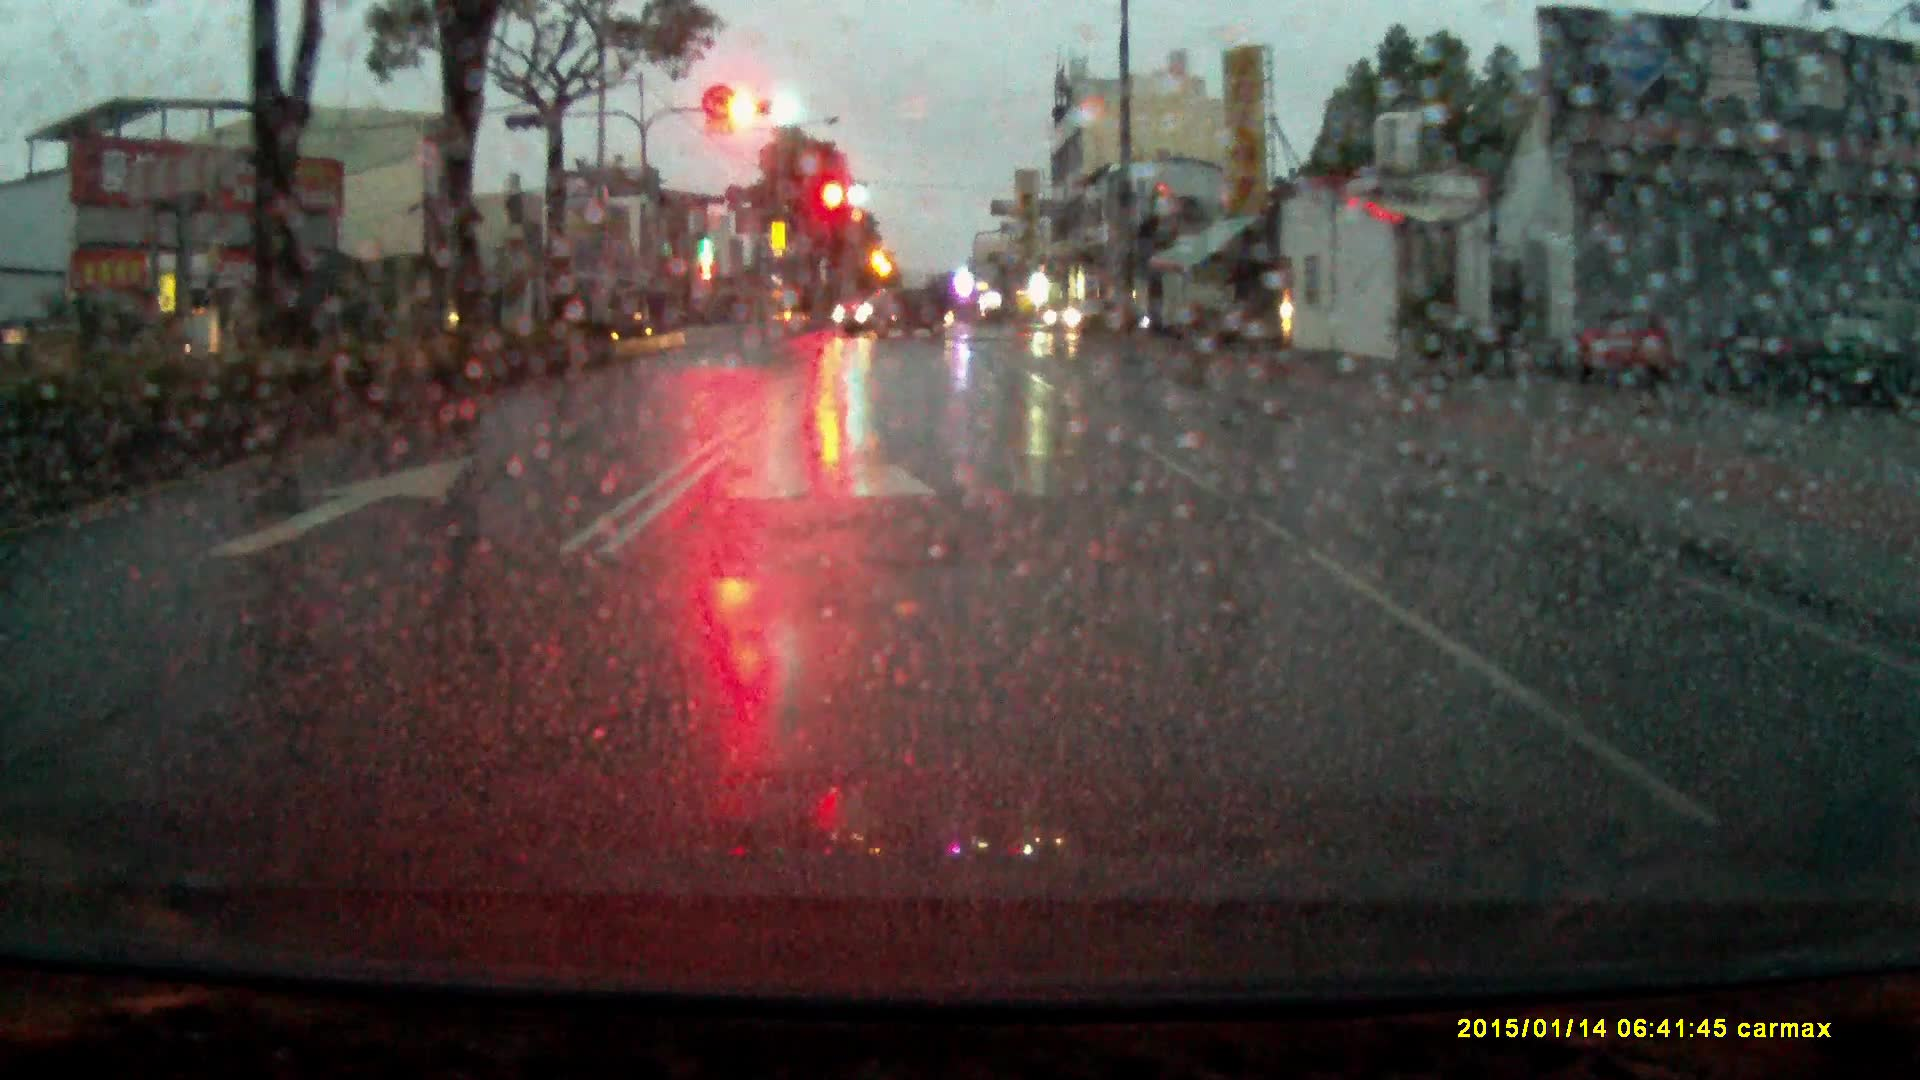vehicle: (832, 284, 956, 345), (1044, 294, 1139, 342)
